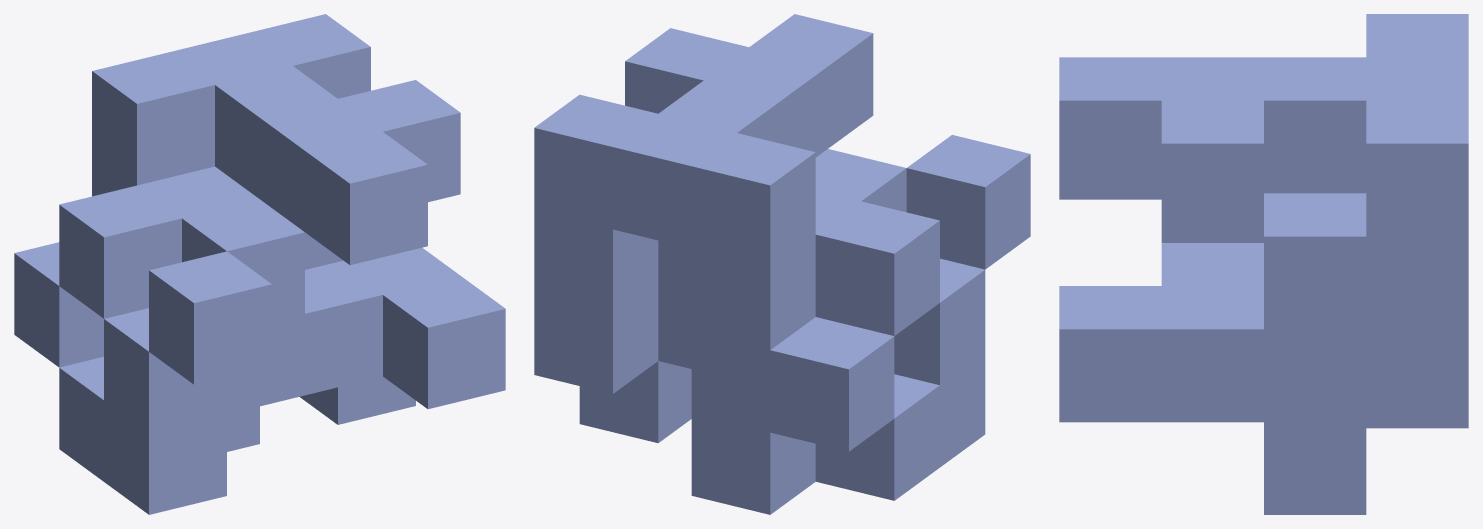
3 views of the same model, side by side, from view 1: azimuth 30°, elevation 25°; view 2: azimuth 150°, elevation 25°; view 3: azimuth 270°, elevation 25° (orthographic). The views are drawn at different scales.
Parts seen in each view (by area): view 1: _changes.020; view 2: _changes.020; view 3: _changes.020.
Boxes of the visible parts, box(x1,y1,x2,y2) form: _changes.020: box(14, 14, 505, 514); _changes.020: box(534, 14, 1030, 514); _changes.020: box(1059, 14, 1468, 514).
Bounding box in the file's own units: 0.1041 × 0.1041 × 0.1041.
